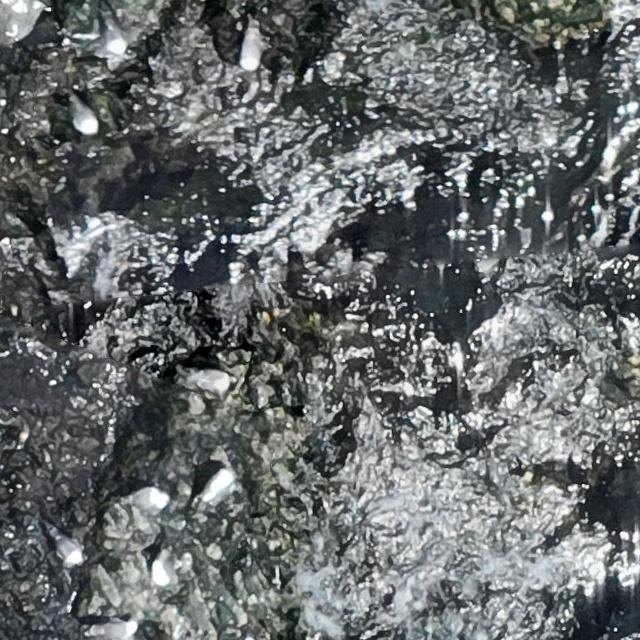umineko: (101, 9, 128, 57), (238, 26, 264, 74), (124, 486, 169, 513), (52, 527, 82, 567), (202, 470, 234, 506), (187, 366, 230, 390), (73, 101, 98, 136), (152, 550, 172, 588), (93, 622, 138, 637)
